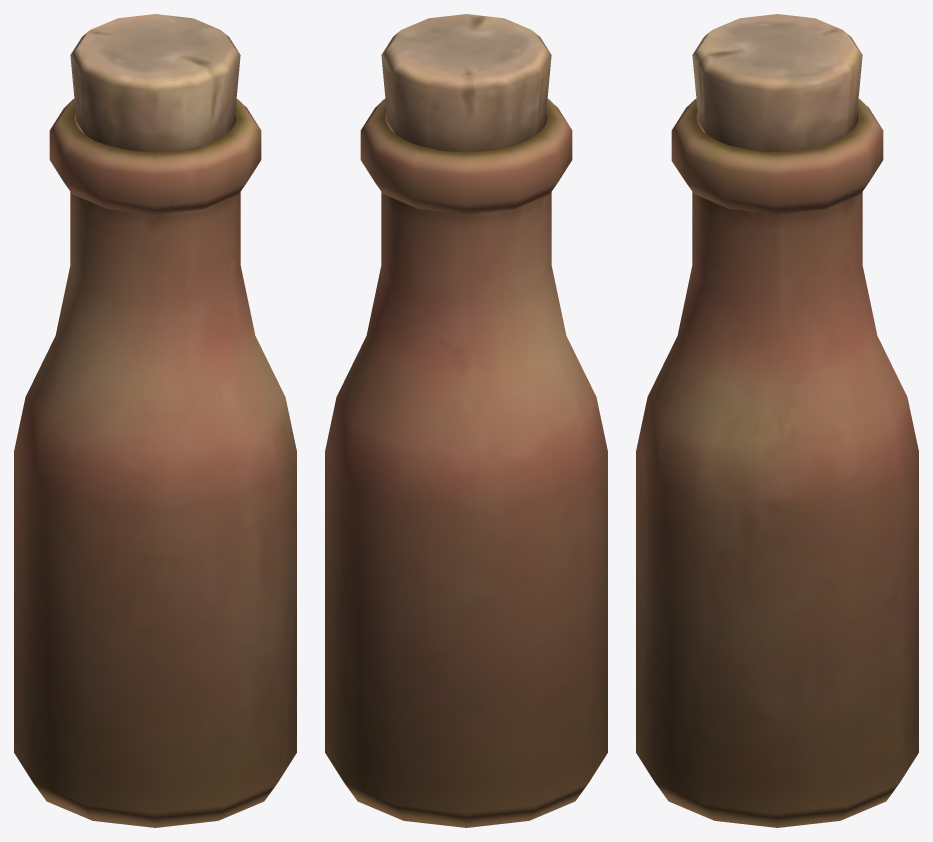
The picture shows the model from 3 angles, left to right: view 1: azimuth 30°, elevation 25°; view 2: azimuth 150°, elevation 25°; view 3: azimuth 270°, elevation 25°; orthographic projection.
Parts seen in each view (by area): view 1: SM_Weak_Clay_Potion_LOD0; view 2: SM_Weak_Clay_Potion_LOD0; view 3: SM_Weak_Clay_Potion_LOD0.
Boxes of the visible parts, x1=… form: SM_Weak_Clay_Potion_LOD0: x1=14, y1=14, x2=296, y2=827; SM_Weak_Clay_Potion_LOD0: x1=325, y1=14, x2=607, y2=827; SM_Weak_Clay_Potion_LOD0: x1=636, y1=14, x2=918, y2=827.
Bounding box in the file's own units: 0.0834 × 0.2372 × 0.0834.
1 material, 1 textured.
